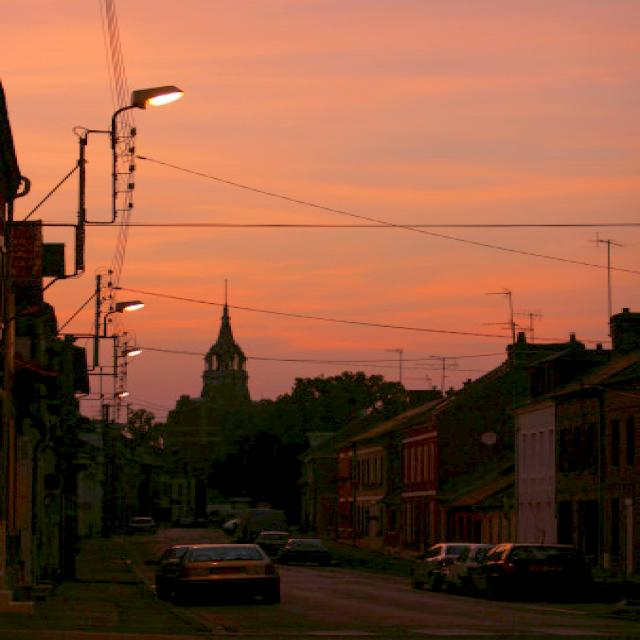Car: (146, 538, 286, 605)
